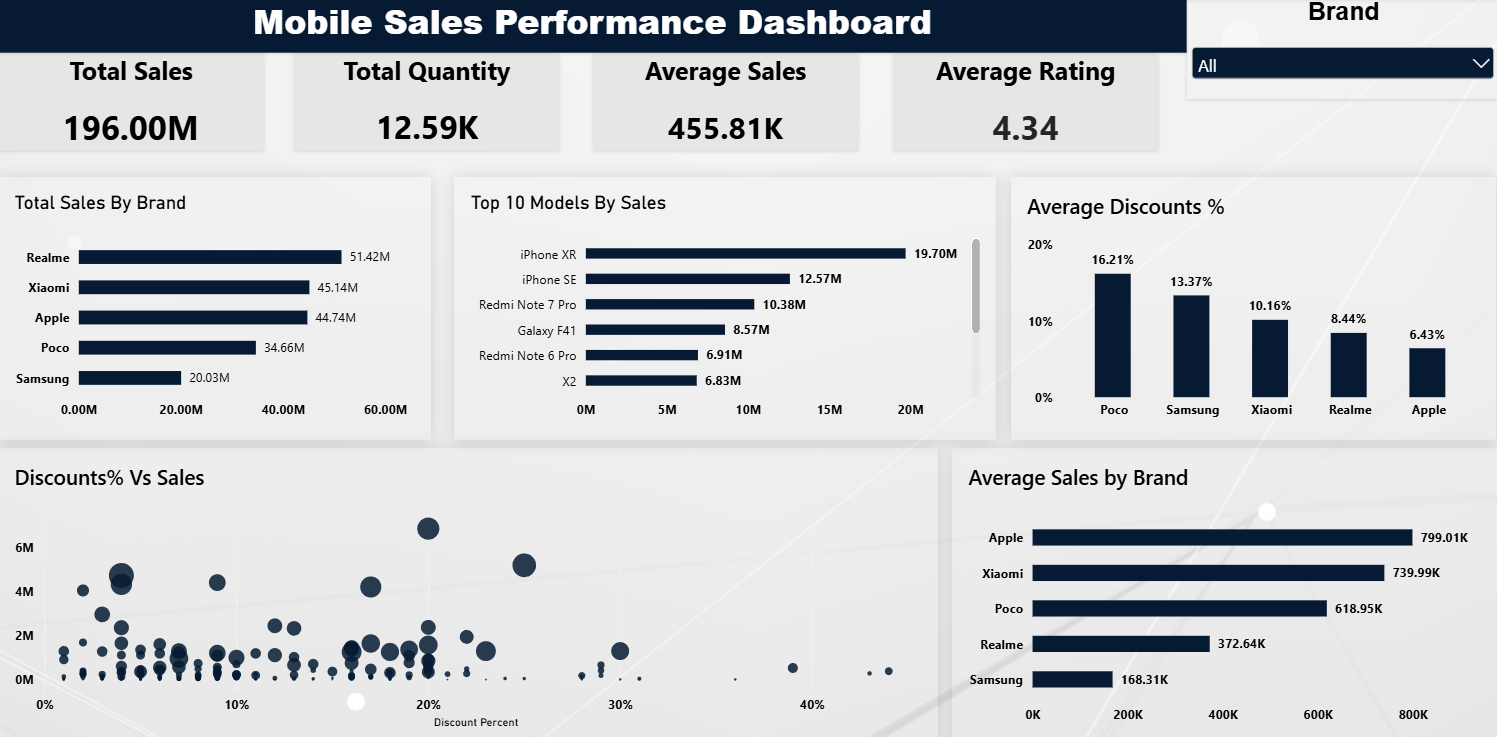

Layout of this report page (visuals, bound fields, positions):
{"tool":"powerbi","page":{"name":"Sales overview","canvas":[1450,720],"ordinal":0},"visuals":[{"type":"clusteredBarChart","title":"Total Sales By Brand","fields":{"Category":["Mobile dataset.brand"],"Y":["Sum(Mobile dataset.Total Sales)"]},"box":[0,172.5,417.4,253.4],"z":0},{"type":"clusteredBarChart","title":"Top 10 Models By Sales","fields":{"Category":["Mobile dataset.model"],"Y":["Sum(Mobile dataset.Total Sales)"]},"box":[440.4,172.5,523.6,253.4],"z":1000},{"type":"columnChart","title":"Average Discounts %","fields":{"Category":["Mobile dataset.brand"],"Y":["Mobile dataset.average discounts"]},"box":[977.2,172.5,469.3,253.4],"z":2000},{"type":"cardVisual","title":"Total Sales","fields":{"Data":["Sum(Mobile dataset.Total Sales)"]},"box":[0,53.1,257,94.1],"z":3000},{"type":"cardVisual","title":"Total Quantity ","fields":{"Data":["Sum(Mobile dataset.sales  Quantity)"]},"box":[285.9,53.1,256,94.1],"z":4000},{"type":"cardVisual","title":"Average Rating","fields":{"Data":["Avg(Mobile dataset.ratings)"]},"box":[863.8,53.1,256,94.1],"z":5000},{"type":"cardVisual","title":"Average Sales","fields":{"Data":["Avg(Mobile dataset.Total Sales)"]},"box":[574.3,53.1,256,94.1],"z":6000},{"type":"scatterChart","title":"Discounts% Vs Sales","fields":{"Series":["Mobile dataset.brand"],"Size":["Sum(Mobile dataset.sales  Quantity)"],"X":["Mobile dataset.discount_percent"],"Y":["Mobile dataset.Total Sales"]},"box":[0,434.3,907.2,285.9],"z":7000},{"type":"slicer","title":"Brand","fields":{"Values":["Mobile dataset.brand"]},"box":[1147.3,0,302.8,97.7],"z":8000},{"type":"clusteredBarChart","title":"Average Sales by Brand","fields":{"Category":["Mobile dataset.brand"],"Y":["Avg(Mobile dataset.Total Sales)"]},"box":[920.5,434.3,529.6,285.9],"z":9000},{"type":"textbox","box":[0,0,1147.3,53.1],"z":10000}]}

Visuals, with their boxes in screenshot pixels (x1, y1, x2, y2), scaled from the page's 1450x720 canvas onto the 1497x737 screenshot:
"Total Sales By Brand" clusteredBarChart: bbox=[0, 177, 431, 436]
"Top 10 Models By Sales" clusteredBarChart: bbox=[455, 177, 995, 436]
"Average Discounts %" columnChart: bbox=[1009, 177, 1493, 436]
"Total Sales" cardVisual: bbox=[0, 54, 265, 151]
"Total Quantity " cardVisual: bbox=[295, 54, 559, 151]
"Average Rating" cardVisual: bbox=[892, 54, 1156, 151]
"Average Sales" cardVisual: bbox=[593, 54, 857, 151]
"Discounts% Vs Sales" scatterChart: bbox=[0, 445, 937, 736]
"Brand" slicer: bbox=[1184, 0, 1496, 100]
"Average Sales by Brand" clusteredBarChart: bbox=[950, 445, 1496, 736]
textbox: bbox=[0, 0, 1184, 54]
